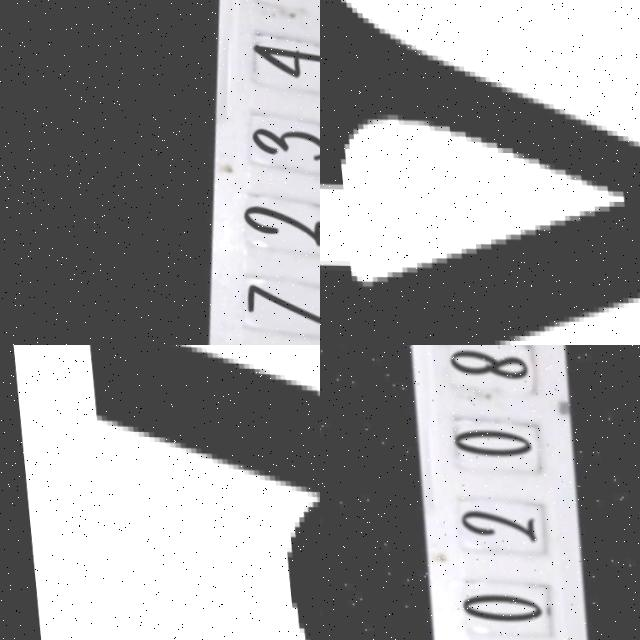0: (424, 402, 542, 494), (428, 565, 548, 640), (240, 0, 320, 16)
2: (431, 482, 545, 573), (220, 196, 320, 260)
3: (231, 112, 320, 177)
4: (234, 33, 320, 97)
7: (222, 274, 317, 338)
8: (423, 345, 537, 411)
D: (64, 345, 320, 640)
V: (320, 0, 640, 345)
